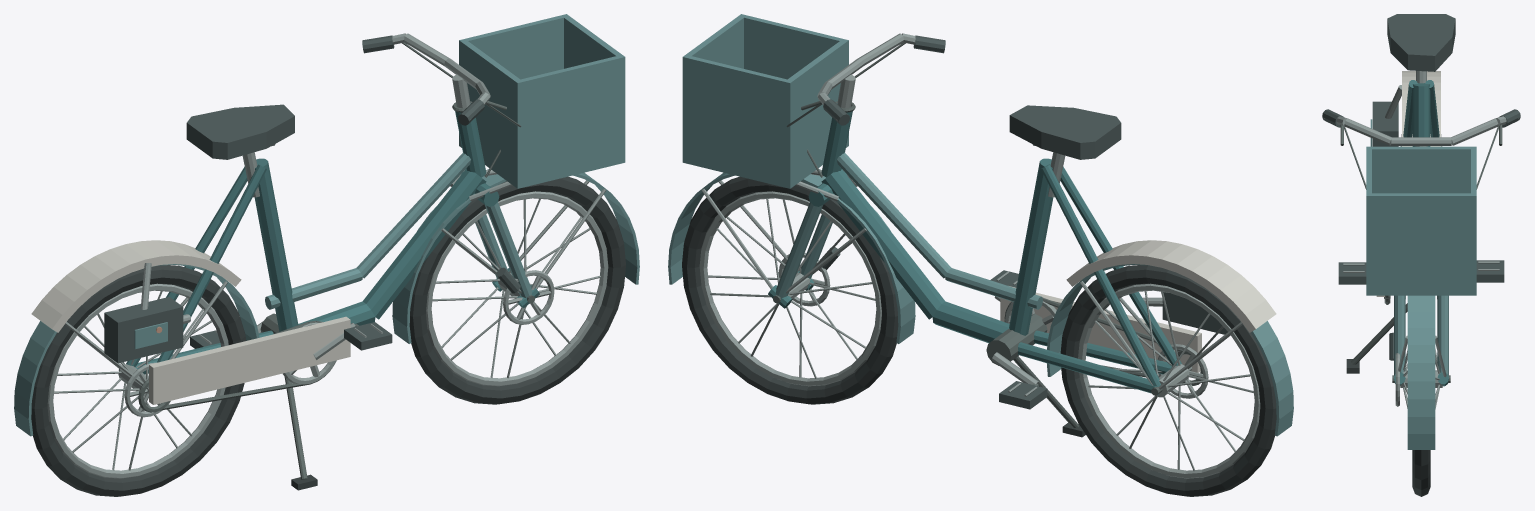
File: R1_MOB_008_display.glb
3 renders of one model, left to right at view 1: azimuth 30°, elevation 25°; view 2: azimuth 150°, elevation 25°; view 3: azimuth 270°, elevation 25°, orthographic. The views are drawn at different scales.
Visible parts, largest first — view 1: R1_MOB_008_DISPLAY; view 2: R1_MOB_008_DISPLAY; view 3: R1_MOB_008_DISPLAY.
Boxes of the visible parts, box(x1,y1,x2,y2) form: R1_MOB_008_DISPLAY: box(14, 14, 639, 496); R1_MOB_008_DISPLAY: box(668, 14, 1293, 496); R1_MOB_008_DISPLAY: box(1322, 14, 1520, 496).
Bounding box in the file's own units: 1.94 × 1.08 × 0.58.
